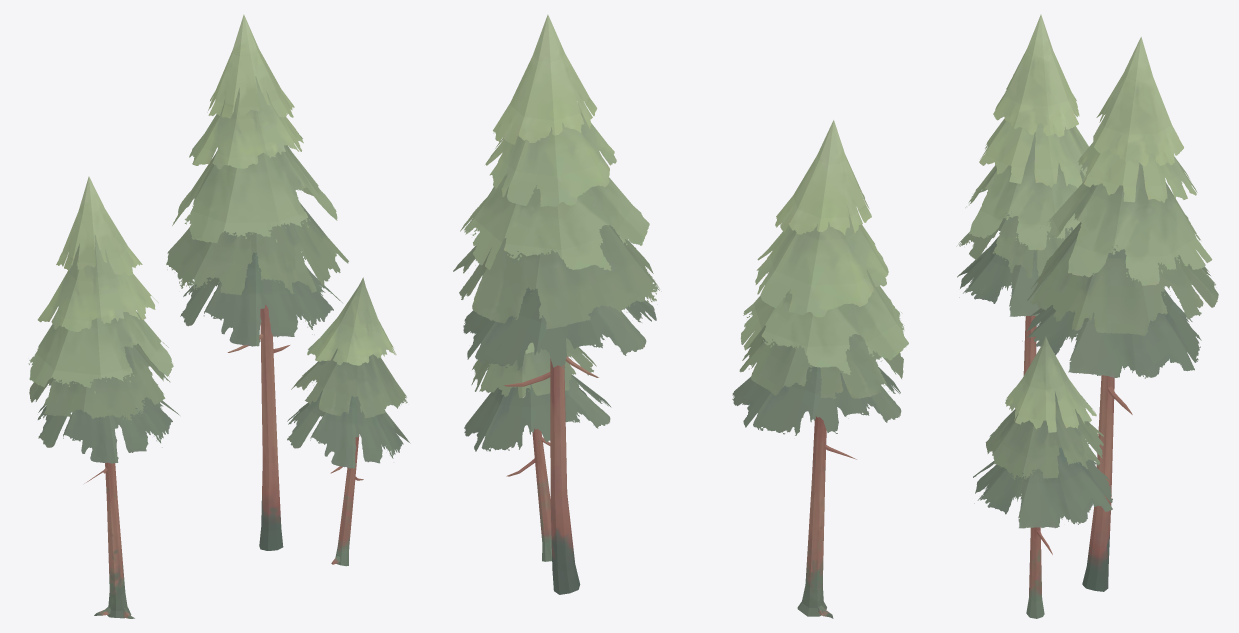
The model's file is tree-group.glb.
3 views of the same model, side by side, from view 1: azimuth 30°, elevation 25°; view 2: azimuth 150°, elevation 25°; view 3: azimuth 270°, elevation 25° (orthographic). The views are drawn at different scales.
Parts seen in each view (by area): view 1: RedwoodAlpha_TreeLeafs_0, BTree_BrichTree_0; view 2: RedwoodAlpha_TreeLeafs_0, BTree_BrichTree_0; view 3: RedwoodAlpha_TreeLeafs_0, BTree_BrichTree_0.
Part boxes in pixels (<box>): RedwoodAlpha_TreeLeafs_0: <box>28,14,410,468</box>; BTree_BrichTree_0: <box>84,305,363,618</box>; RedwoodAlpha_TreeLeafs_0: <box>453,14,908,451</box>; BTree_BrichTree_0: <box>503,356,856,618</box>; RedwoodAlpha_TreeLeafs_0: <box>956,14,1218,528</box>; BTree_BrichTree_0: <box>1023,315,1132,618</box>.
Size of the model in its own units: 3.99 by 5.34 by 2.4.
2 materials, 2 textured.
